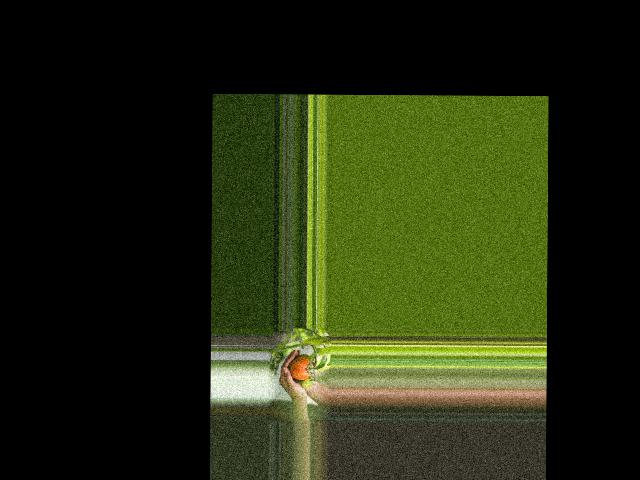tomato: (289, 357, 312, 380)
